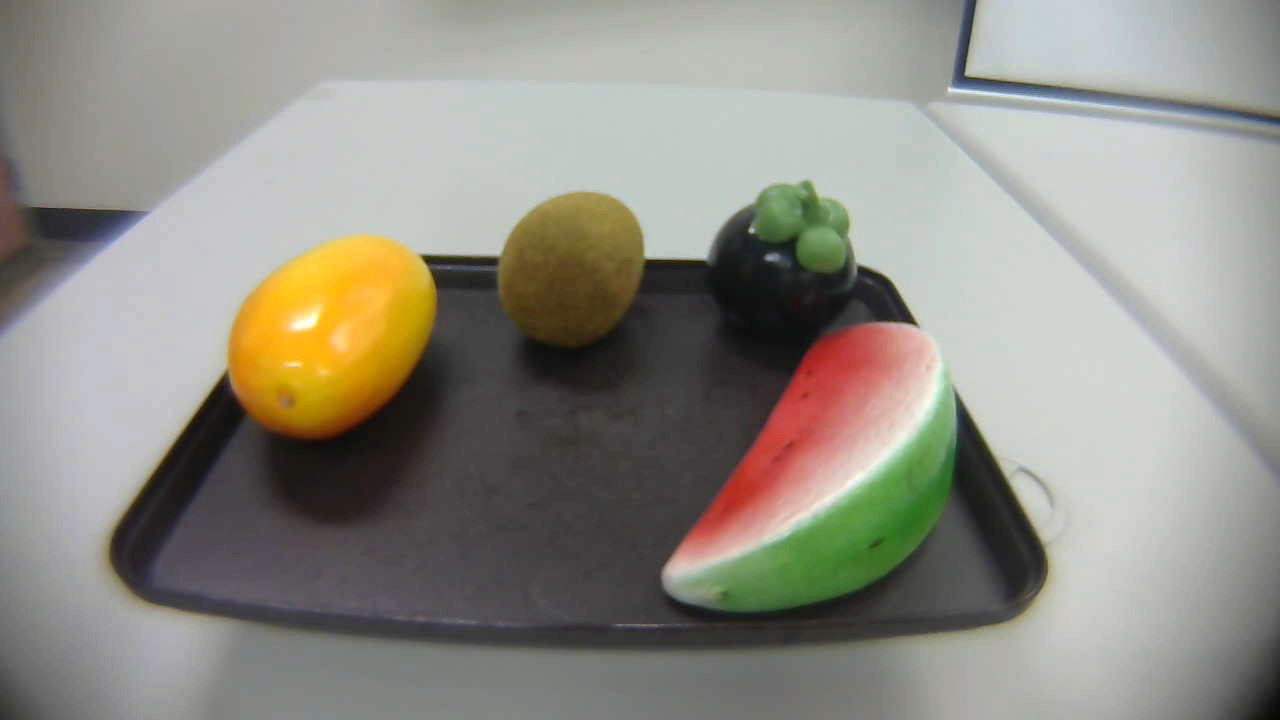kiwi fruit: (491, 186, 645, 352)
mangosteen: (697, 179, 858, 345)
water melon: (657, 321, 973, 641)
yellow mango: (212, 218, 457, 456)
